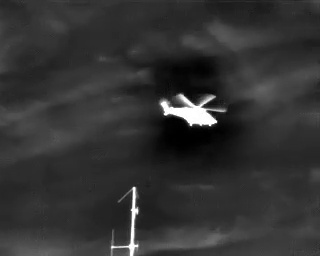HELICOPTER: (157, 86, 231, 133)
